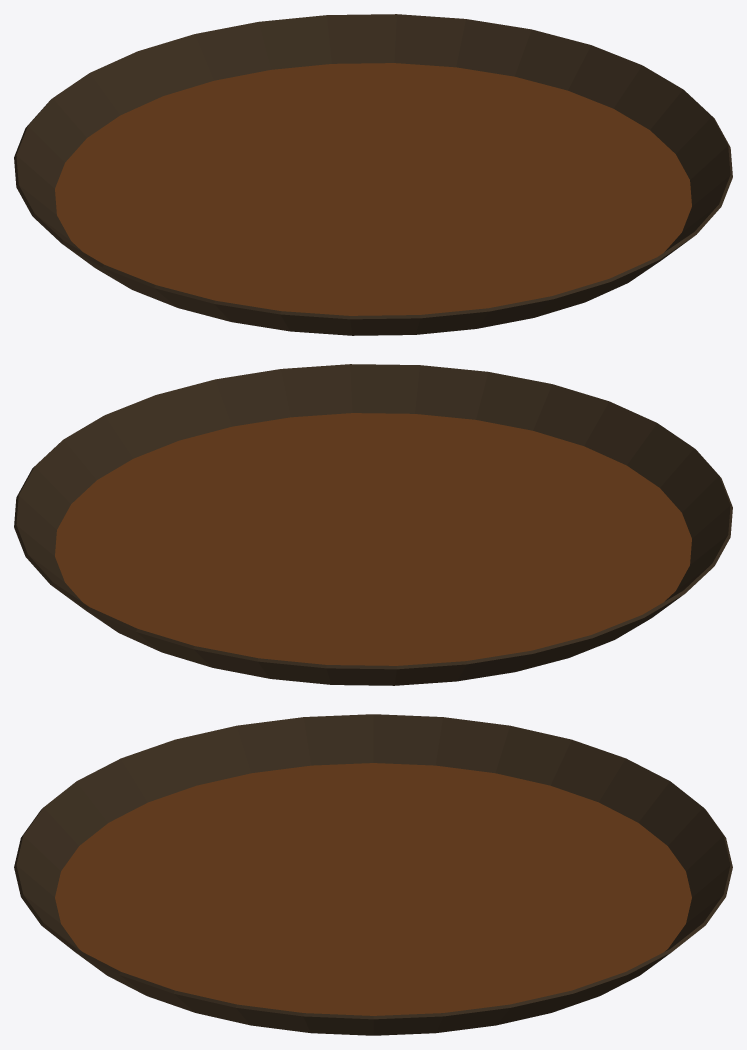
File: Platillo.fbx
The picture shows the model from 3 angles, top to bottom: view 1: azimuth 30°, elevation 25°; view 2: azimuth 150°, elevation 25°; view 3: azimuth 270°, elevation 25°; orthographic projection.
Visible parts, largest first — view 1: Circle.001; view 2: Circle.001; view 3: Circle.001.
Boxes of the visible parts, bbox=[...] form: Circle.001: bbox=[14, 14, 732, 335]; Circle.001: bbox=[14, 364, 732, 685]; Circle.001: bbox=[14, 714, 732, 1035].
Bounding box in the file's own units: 37.68 × 4.38 × 37.68.
